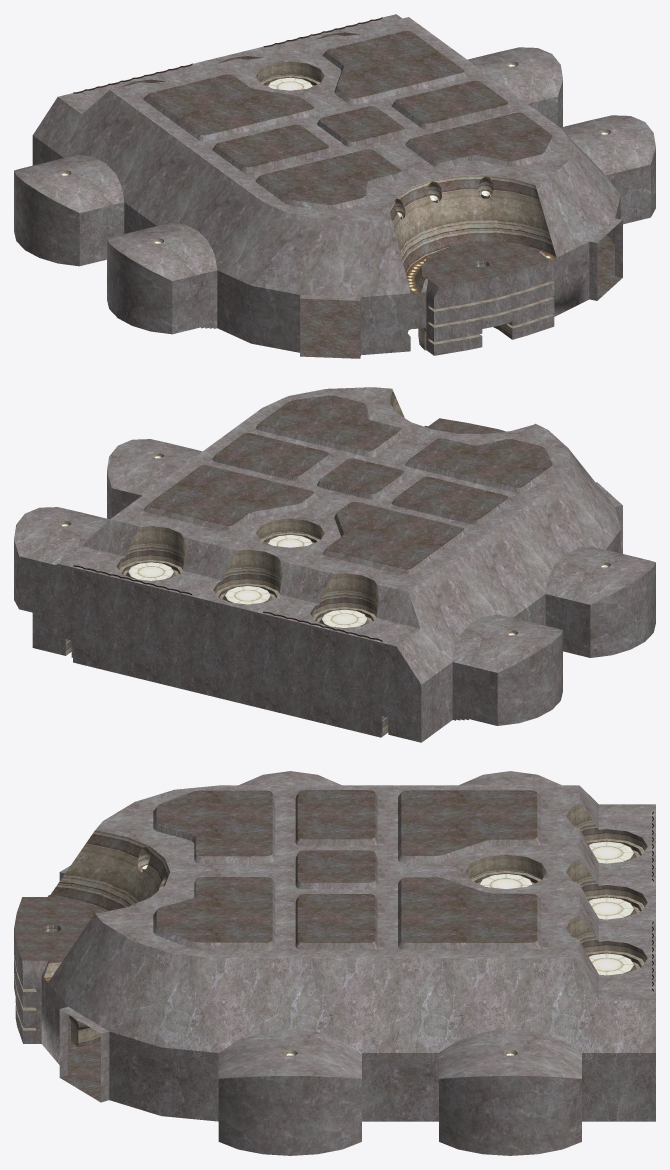
Rendered from ply_corl_cantina_s01_r2_cantina_mesh.fbx.
3 renders of one model, top to bottom at view 1: azimuth 30°, elevation 25°; view 2: azimuth 150°, elevation 25°; view 3: azimuth 270°, elevation 25°, orthographic. The views are drawn at different scales.
Parts seen in each view (by area): view 1: mesh_node; view 2: mesh_node; view 3: mesh_node.
Boxes of the visible parts, x1,y1,x2,y2 form: mesh_node: [14, 14, 655, 358]; mesh_node: [14, 387, 655, 742]; mesh_node: [14, 771, 655, 1155].
Size of the model in its own units: 28.57 by 7.23 by 25.43.
